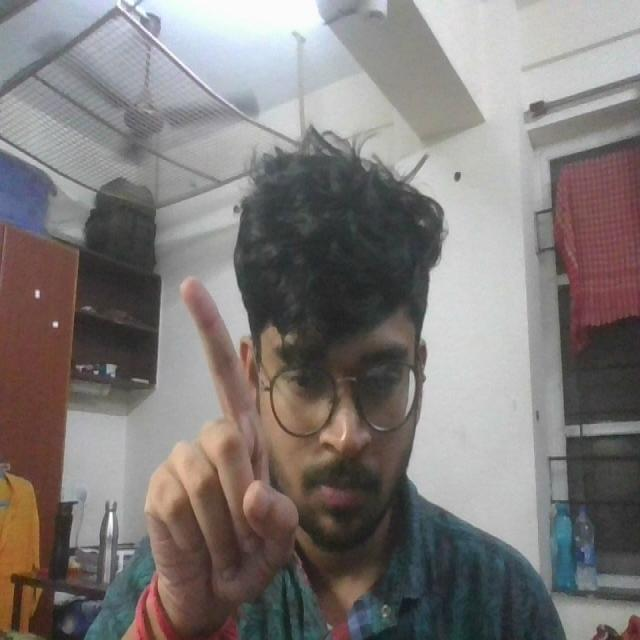No: (106, 238, 304, 638)
